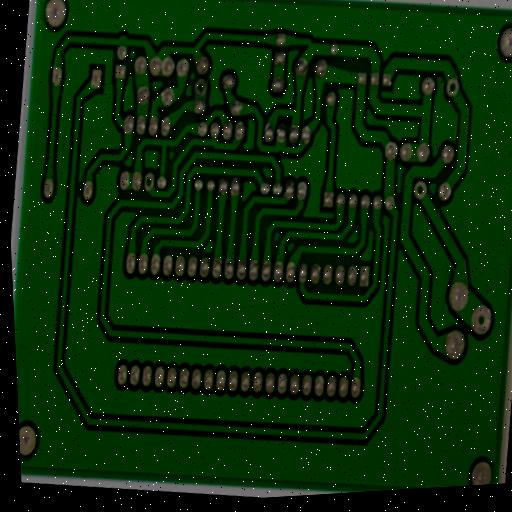missing_hole: (467, 304, 497, 339), (191, 73, 211, 102), (444, 74, 464, 100), (411, 176, 431, 202), (140, 170, 158, 195)
